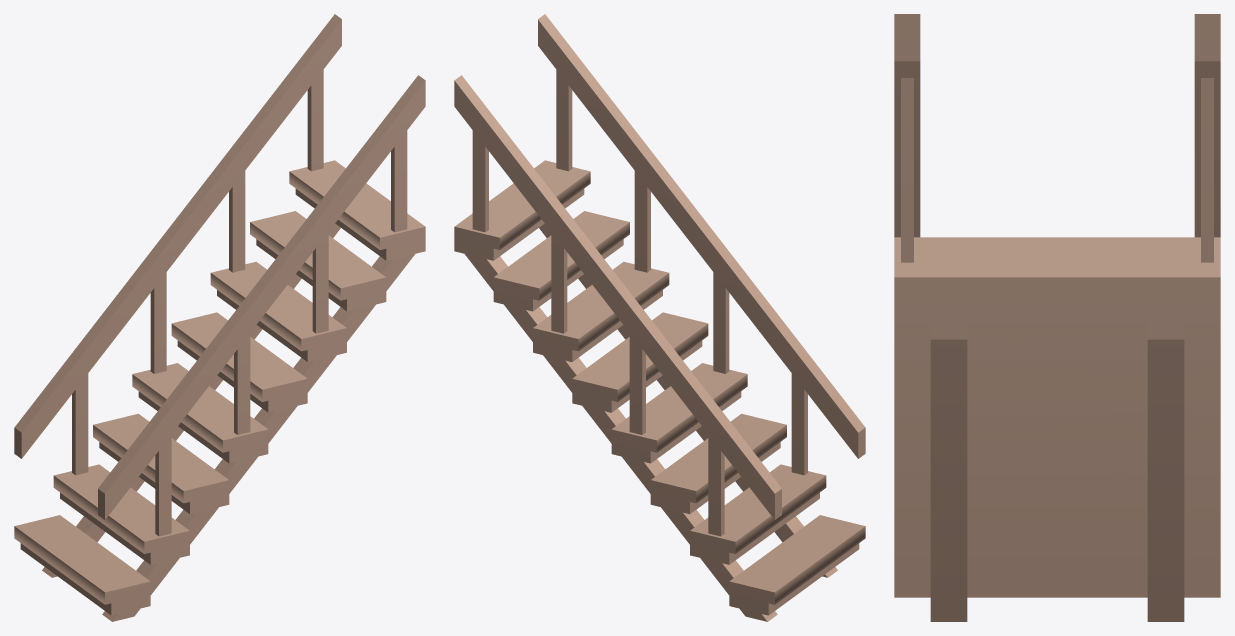
The model's file is stairs-wood-handrail.glb.
3 views of the same model, side by side, from view 1: azimuth 30°, elevation 25°; view 2: azimuth 150°, elevation 25°; view 3: azimuth 270°, elevation 25° (orthographic). The views are drawn at different scales.
Parts seen in each view (by area): view 1: stairs-wood-handrail; view 2: stairs-wood-handrail; view 3: stairs-wood-handrail.
Part boxes in pixels (x1,y1,x2,y2): stairs-wood-handrail: (14, 14, 425, 621); stairs-wood-handrail: (454, 14, 865, 621); stairs-wood-handrail: (894, 14, 1220, 621).
Bounding box in the file's own units: 1.02 × 1.45 × 0.5.
